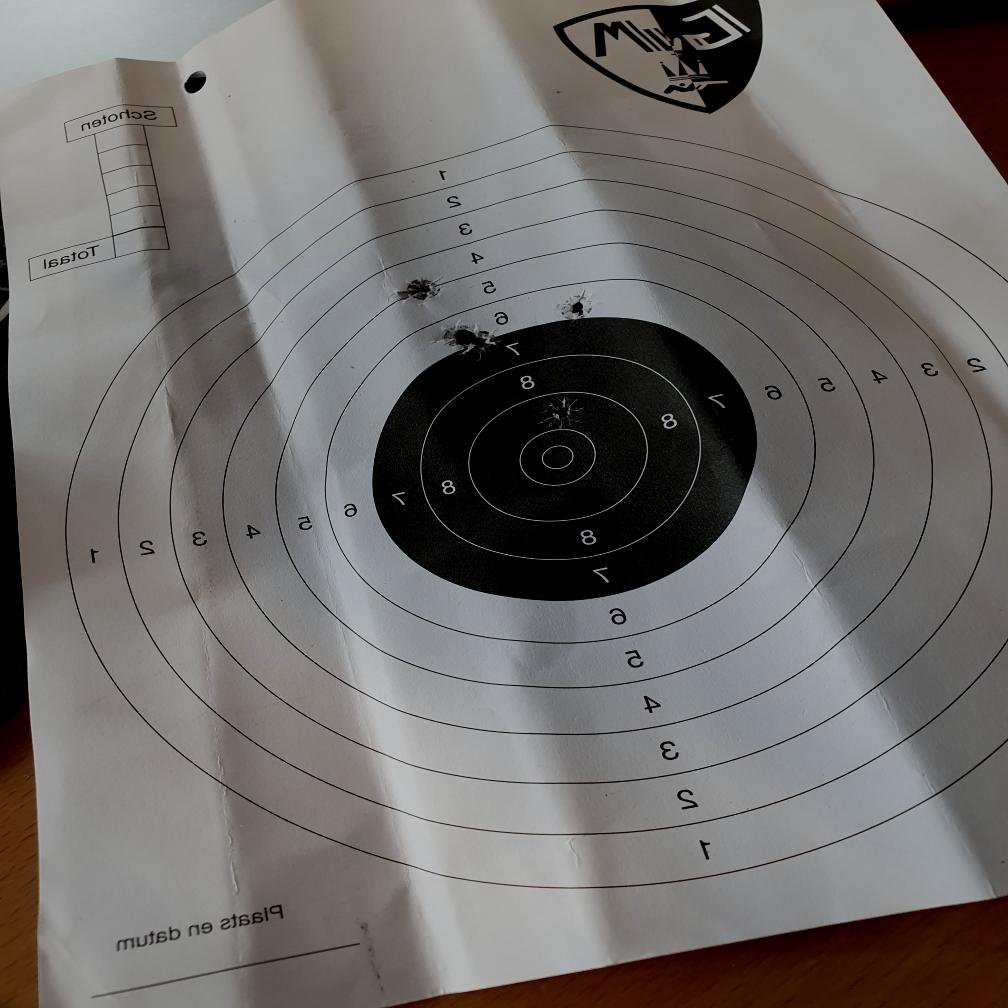5: (396, 269, 448, 306)
6: (441, 321, 479, 349)
7: (557, 292, 599, 319), (470, 333, 505, 358)
9: (541, 390, 580, 429)
Target: (64, 122, 1008, 891)
black_contour: (371, 316, 759, 602)
